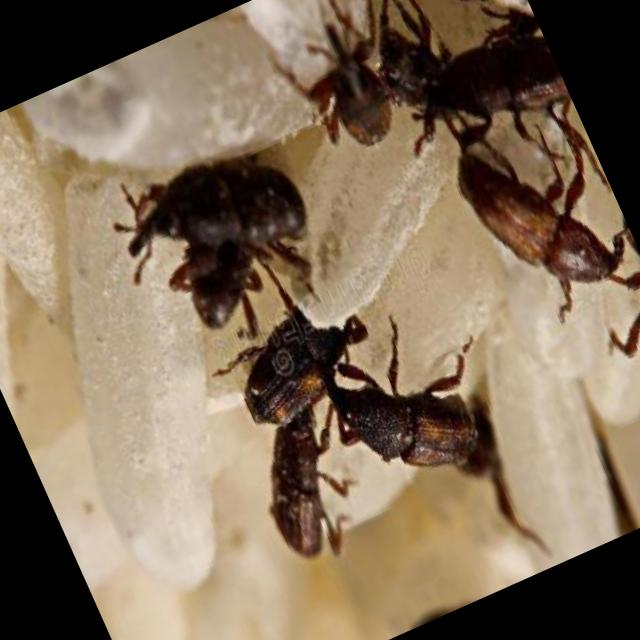rice-bug: (95, 114, 339, 353), (447, 120, 628, 323), (362, 0, 573, 167), (189, 290, 386, 442), (220, 410, 374, 582), (329, 349, 492, 506), (272, 15, 404, 168), (616, 264, 640, 391)
